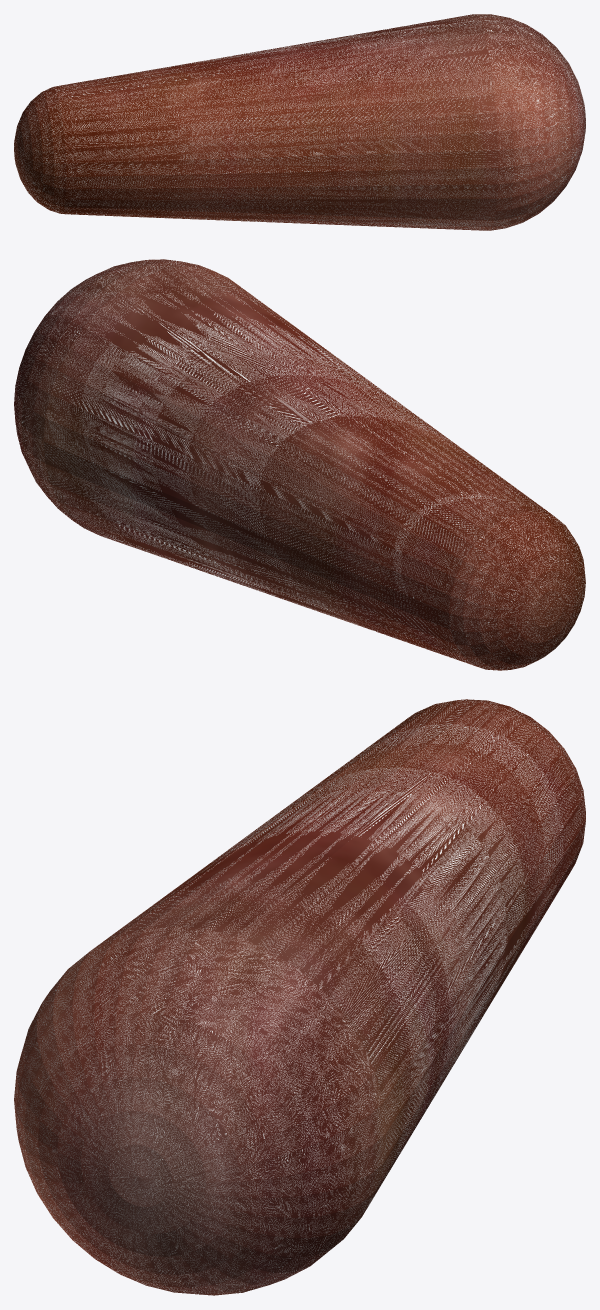
Rendered from left_lower_leg_texture.dae.
3 renders of one model, top to bottom at view 1: azimuth 30°, elevation 25°; view 2: azimuth 150°, elevation 25°; view 3: azimuth 270°, elevation 25°, orthographic. The views are drawn at different scales.
Parts seen in each view (by area): view 1: SketchUp; view 2: SketchUp; view 3: SketchUp.
Part boxes in pixels (box(x1,y1,x2,y2)): SketchUp: box(14, 14, 585, 230); SketchUp: box(14, 259, 585, 670); SketchUp: box(14, 699, 585, 1295).
Bounding box in the file's own units: 1.25 × 0.7311 × 0.4936.
1 material, 1 textured.
